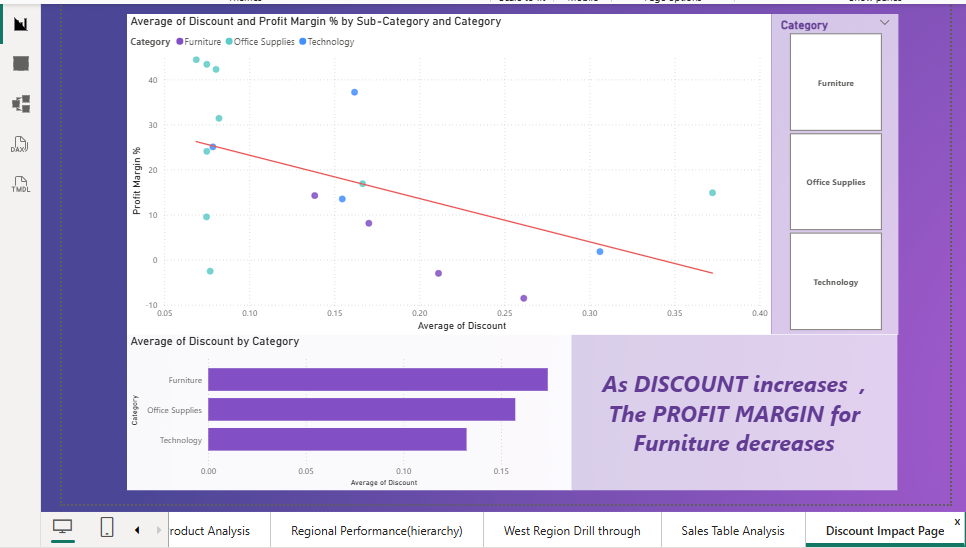

What the dashboard file says about the page in this screenshot:
{"tool":"powerbi","page":{"name":"Discount Impact Page","canvas":[1280,720],"ordinal":6},"visuals":[{"type":"scatterChart","fields":{"X":["Avg(Orders.Discount)"],"Category":["Orders.Sub-Category"],"Series":["Orders.Category"],"Y":["Measuires.Profit Margin %"]},"box":[94,14,928,462],"z":0},{"type":"clusteredBarChart","fields":{"Category":["Orders.Category"],"Y":["Avg(Orders.Discount)"]},"box":[93.3,475,640,225],"z":1000},{"type":"slicer","fields":{"Values":["Orders.Category"]},"box":[1022,14,182,462],"z":2000},{"type":"textbox","box":[733.3,475,470,225],"z":3000}]}

Visuals, with their boxes on the page's 1280x720 design canvas (x1, y1, x2, y2). These are canvas units, not pixel positions in the 966x548 screenshot, which may show the page scaled, cropped or inside an application window:
scatterChart - Avg(Orders.Discount) x Orders.Sub-Category: (x1=94, y1=14, x2=1022, y2=476)
clusteredBarChart - Orders.Category x Avg(Orders.Discount): (x1=93, y1=475, x2=733, y2=700)
slicer - Orders.Category: (x1=1022, y1=14, x2=1204, y2=476)
textbox: (x1=733, y1=475, x2=1203, y2=700)
